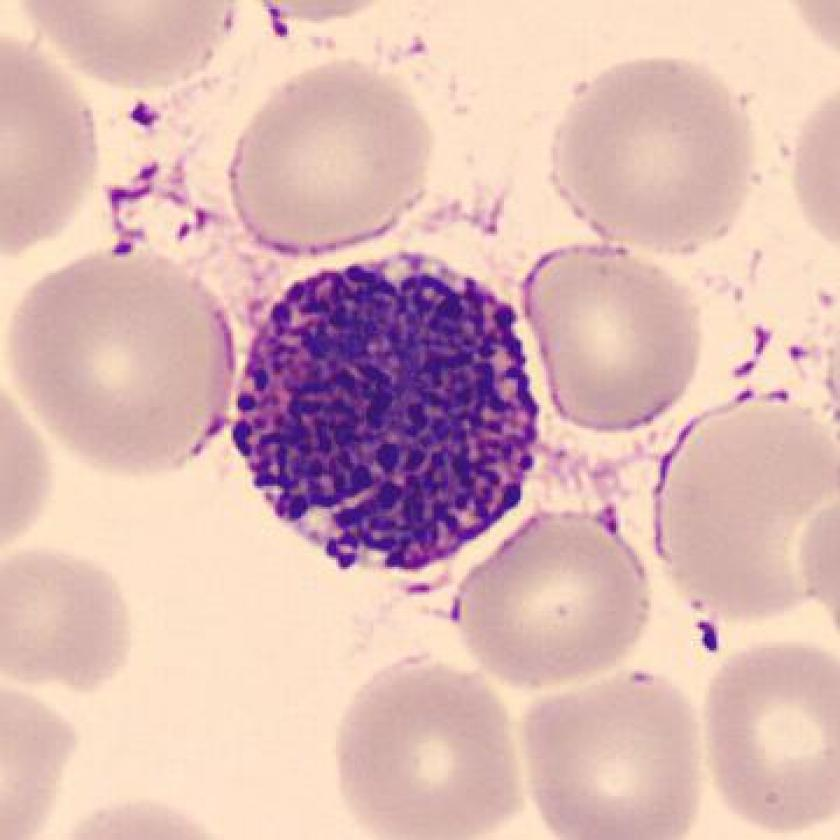basophil: (221, 244, 550, 573)
